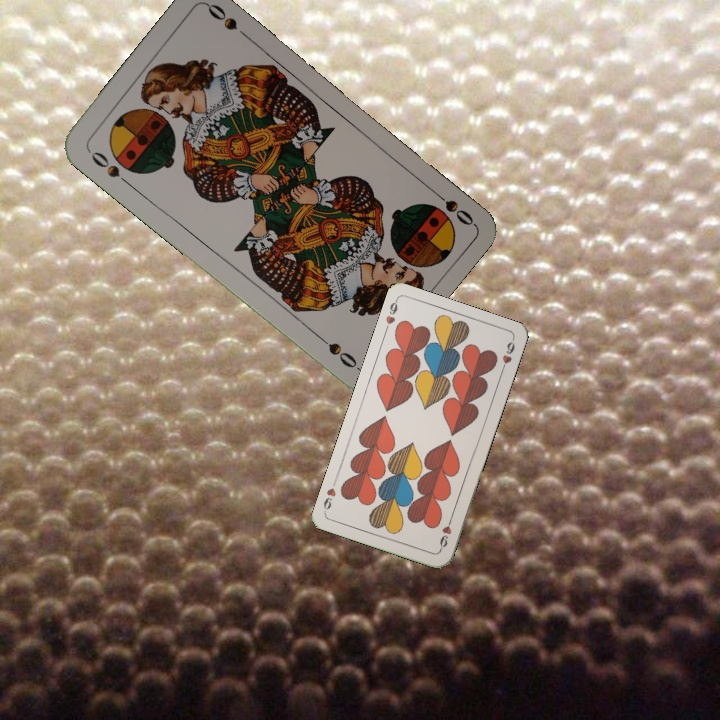H9: (435, 514, 455, 553), (380, 296, 400, 335)
SO: (426, 184, 476, 229), (87, 147, 133, 189)
